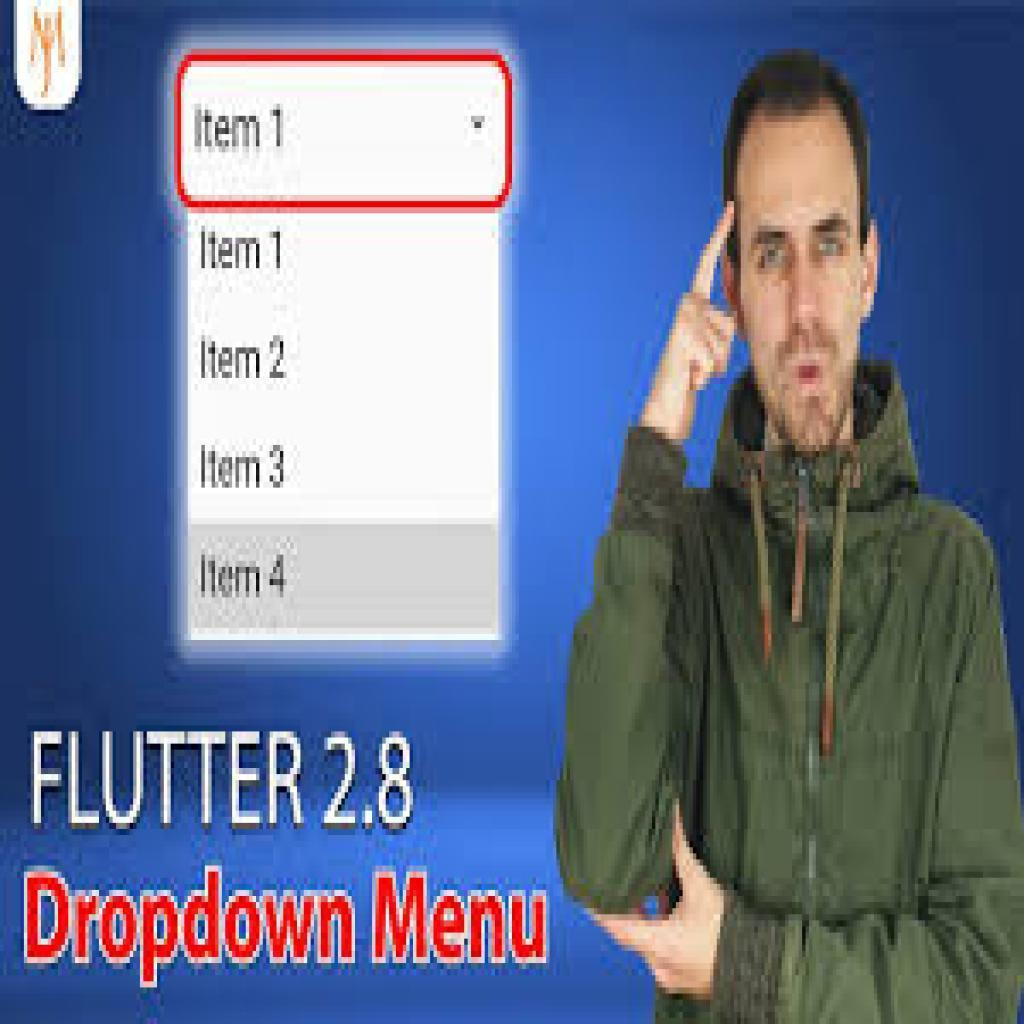dropdown: (182, 57, 509, 206)
